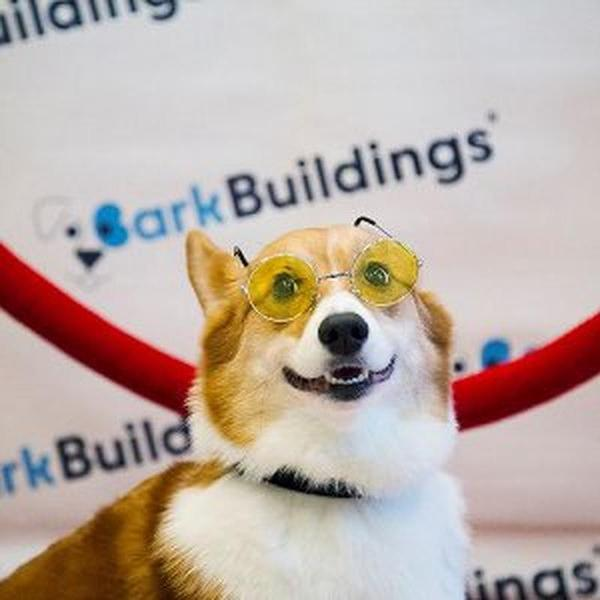allqu: (22, 212, 508, 600)
